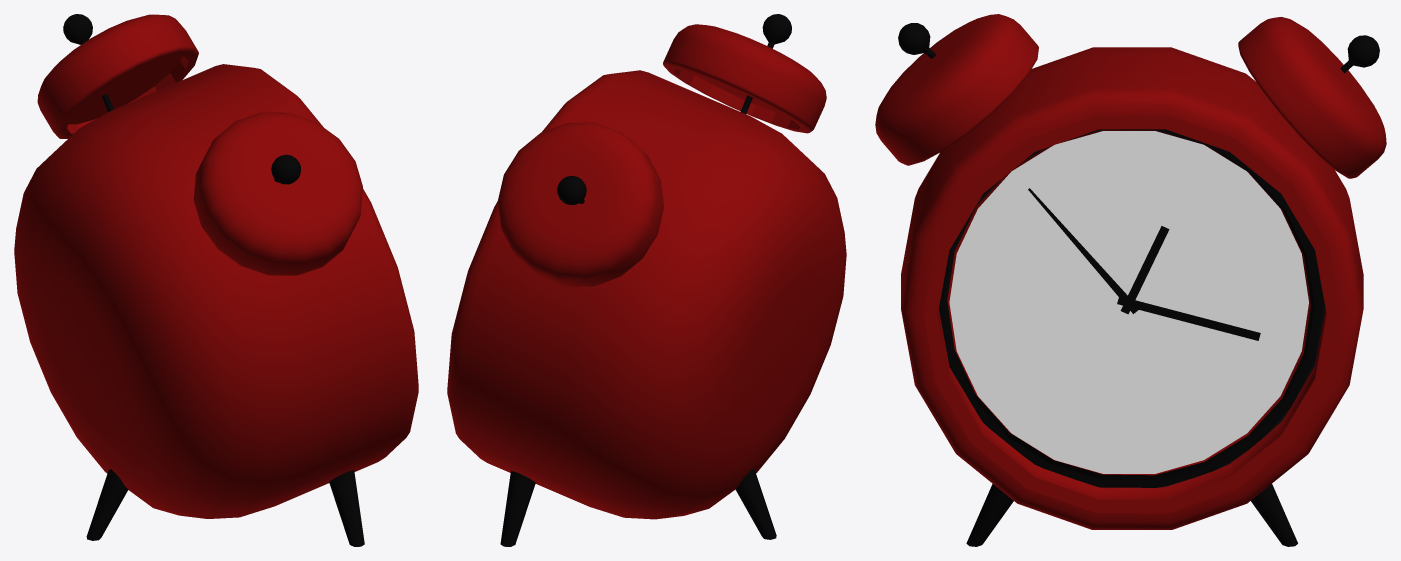
The model's file is Reveil2.fbx.
3 views of the same model, side by side, from view 1: azimuth 30°, elevation 25°; view 2: azimuth 150°, elevation 25°; view 3: azimuth 270°, elevation 25° (orthographic). The views are drawn at different scales.
Visible parts, largest first — view 1: Reveil2; view 2: Reveil2; view 3: Reveil2.
Part boxes in pixels (x1,y1,x2,y2): Reveil2: [14, 14, 418, 546]; Reveil2: [447, 14, 846, 546]; Reveil2: [875, 14, 1386, 546].
Bounding box in the file's own units: 16.19 × 24.75 × 24.12.
